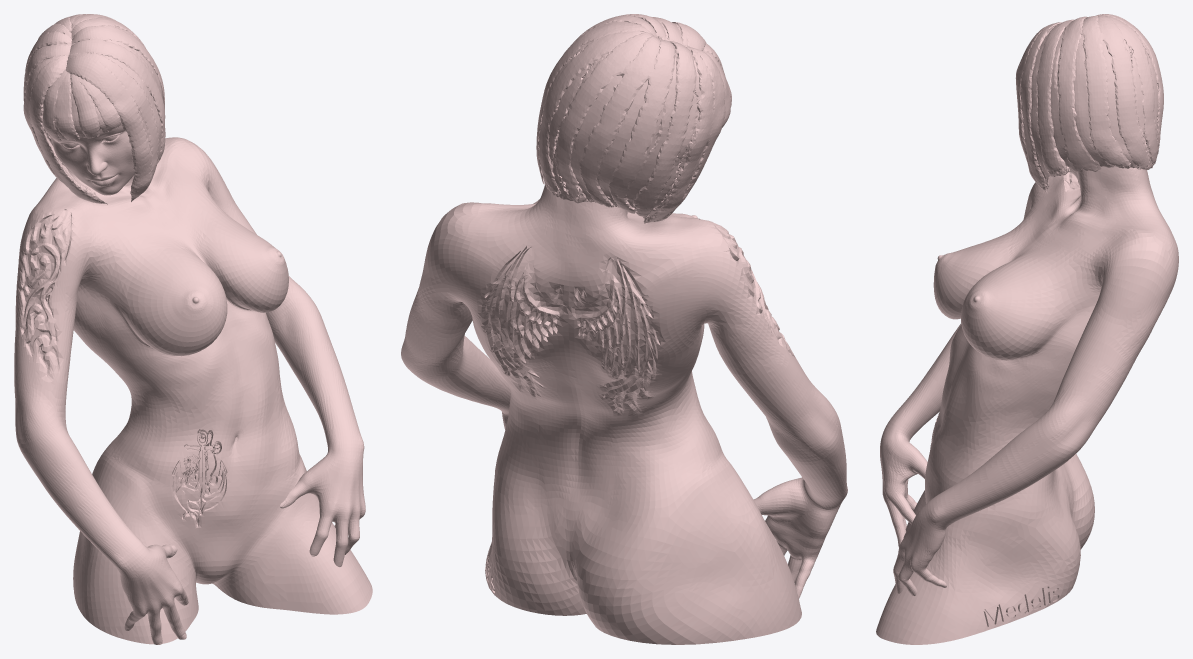
The model's file is girl_model.glb.
The picture shows the model from 3 angles, left to right: view 1: azimuth 30°, elevation 25°; view 2: azimuth 150°, elevation 25°; view 3: azimuth 270°, elevation 25°; orthographic projection. The views are drawn at different scales.
Visible parts, largest first — view 1: 7bbf41be-8aa8-45d7-a810-2f1d59413267; view 2: 7bbf41be-8aa8-45d7-a810-2f1d59413267; view 3: 7bbf41be-8aa8-45d7-a810-2f1d59413267.
Part boxes in pixels (x1=…): 7bbf41be-8aa8-45d7-a810-2f1d59413267: x1=14, y1=14, x2=372, y2=644; 7bbf41be-8aa8-45d7-a810-2f1d59413267: x1=401, y1=14, x2=847, y2=644; 7bbf41be-8aa8-45d7-a810-2f1d59413267: x1=876, y1=14, x2=1178, y2=644.
Bounding box in the file's own units: 59.41 × 95.05 × 48.38.
